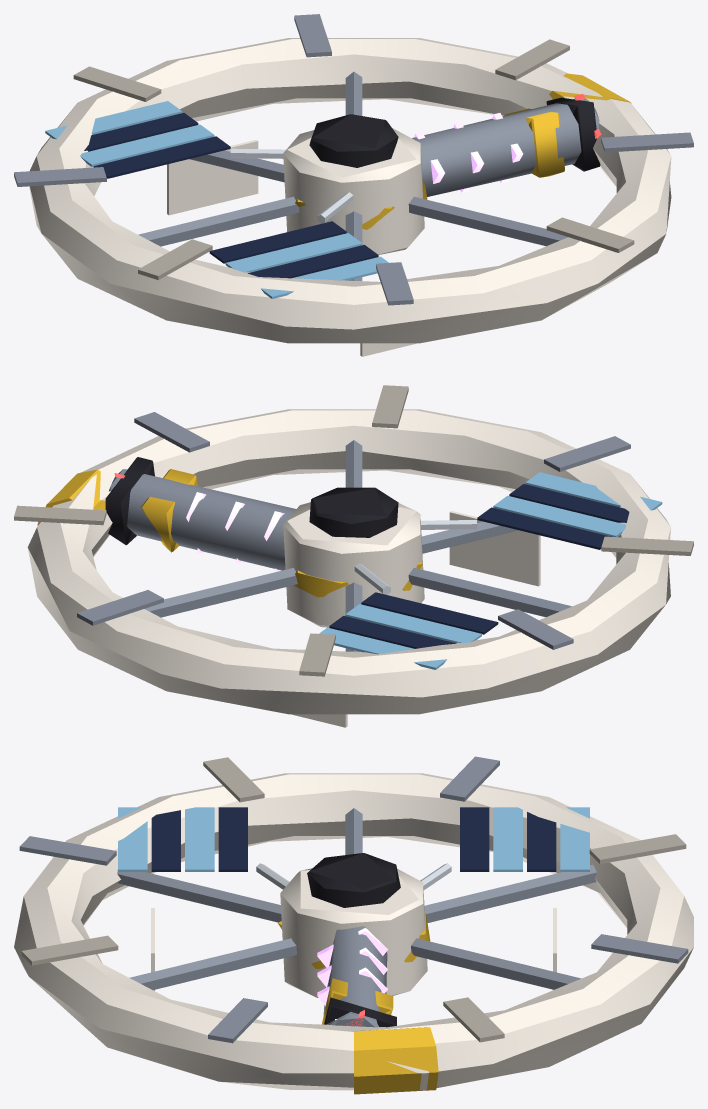
File: laser_platform.glb
3 views of the same model, one above another, from view 1: azimuth 30°, elevation 25°; view 2: azimuth 150°, elevation 25°; view 3: azimuth 270°, elevation 25° (orthographic). The views are drawn at different scales.
Parts seen in each view (by area): view 1: laser_platform; view 2: laser_platform; view 3: laser_platform.
Boxes of the visible parts, x1,y1,x2,y2 form: laser_platform: (14,14,693,356); laser_platform: (14,385,693,727); laser_platform: (14,756,693,1094).
Size of the model in its own units: 101 by 24 by 101.
1 material, 1 textured.
